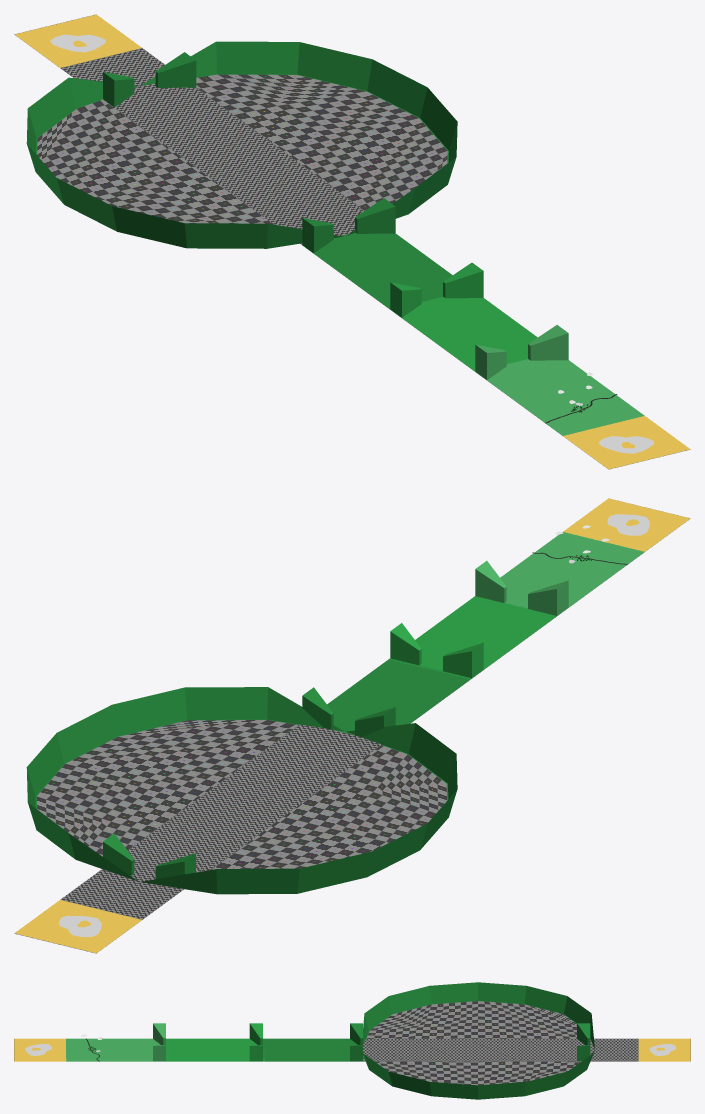
Rendered from 00_game-area-size.glb.
The picture shows the model from 3 angles, top to bottom: view 1: azimuth 30°, elevation 25°; view 2: azimuth 150°, elevation 25°; view 3: azimuth 270°, elevation 25°; orthographic projection. The views are drawn at different scales.
Parts seen in each view (by area): view 1: zone.explorable, zone.explorable.001, couloir, SOL.001, SOL.003, SOL.002, SOL.004, SOL.005, PORTE.04, PORTE.01, PORTE.02, PORTE.03 (+2 smaller); view 2: zone.explorable, zone.explorable.001, couloir, SOL.001, SOL.002, SOL.003, SOL.005, SOL.004, PORTE.02, PORTE.01, PORTE.03, PORTE.04 (+1 smaller); view 3: zone.explorable, zone.explorable.001, couloir, SOL.003, SOL.001, SOL.002, SOL.005, SOL.004, PORTE.02, PORTE.04, PORTE.01, PORTE.03 (+2 smaller).
Boxes of the visible parts, <box> form: zone.explorable: <box>37,74,447,224</box>; zone.explorable.001: <box>26,41,457,248</box>; couloir: <box>14,14,690,469</box>; SOL.001: <box>476,359,644,435</box>; SOL.003: <box>304,232,452,309</box>; SOL.002: <box>389,297,537,371</box>; SOL.004: <box>563,416,690,469</box>; SOL.005: <box>15,14,141,67</box>; PORTE.04: <box>103,52,196,107</box>; PORTE.01: <box>475,325,568,379</box>; PORTE.02: <box>390,262,483,317</box>; PORTE.03: <box>302,198,395,253</box>; zone.explorable: <box>36,720,447,869</box>; zone.explorable.001: <box>26,687,457,894</box>; couloir: <box>14,500,690,953</box>; SOL.001: <box>500,532,644,614</box>; SOL.002: <box>389,596,556,679</box>; SOL.003: <box>327,658,471,734</box>; SOL.005: <box>15,900,141,953</box>; SOL.004: <box>563,498,690,551</box>; PORTE.02: <box>390,623,483,678</box>; PORTE.01: <box>475,560,568,615</box>; PORTE.03: <box>302,687,395,737</box>; PORTE.04: <box>103,833,195,879</box>; zone.explorable: <box>366,1001,580,1085</box>; zone.explorable.001: <box>363,982,594,1099</box>; couloir: <box>14,1038,690,1061</box>; SOL.003: <box>263,1038,362,1061</box>; SOL.001: <box>66,1038,165,1061</box>; SOL.002: <box>166,1038,264,1061</box>; SOL.005: <box>638,1038,690,1061</box>; SOL.004: <box>14,1038,66,1061</box>; PORTE.02: <box>249,1023,262,1061</box>; PORTE.04: <box>577,1023,590,1061</box>; PORTE.01: <box>153,1023,165,1061</box>; PORTE.03: <box>350,1023,362,1061</box>.
Size of the model in its own units: 180 by 13.4 by 500.
Materials: 3 (2 with a texture image).
